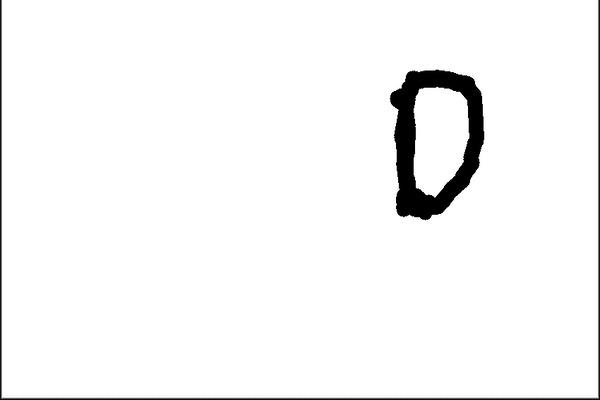D: (385, 63, 488, 226)
